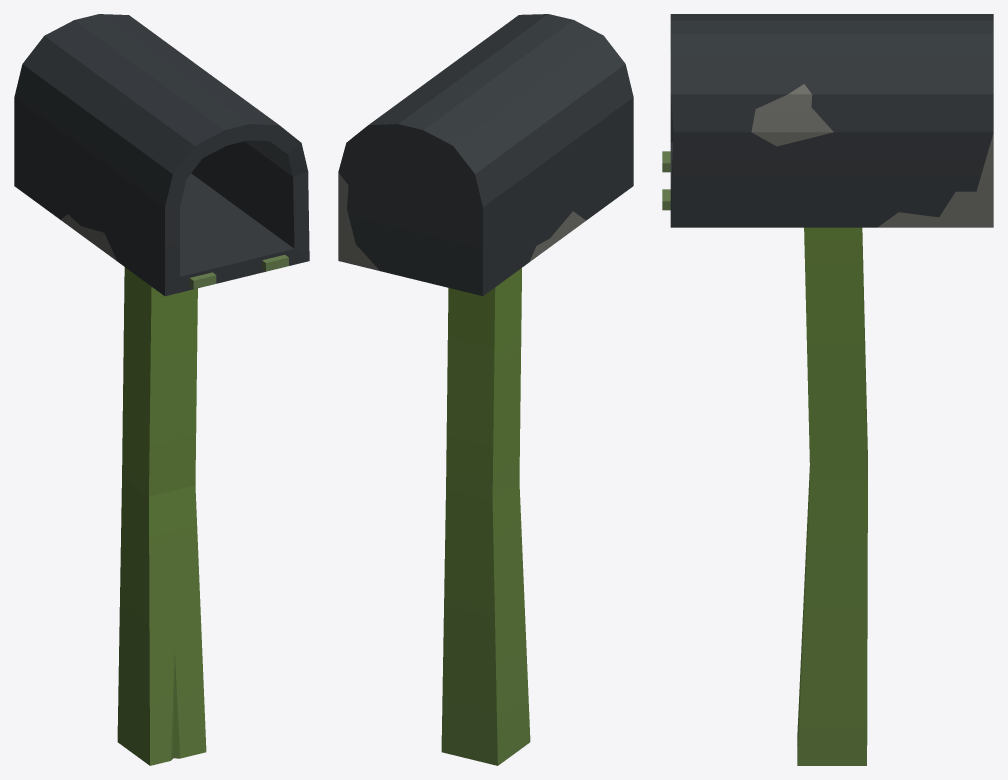
Rendered from Mailbox_03.fbx.
3 renders of one model, left to right at view 1: azimuth 30°, elevation 25°; view 2: azimuth 150°, elevation 25°; view 3: azimuth 270°, elevation 25°, orthographic. The views are drawn at different scales.
Parts seen in each view (by area): view 1: Mailbox_03; view 2: Mailbox_03; view 3: Mailbox_03.
Boxes of the visible parts, <box> form: Mailbox_03: <box>14,14,309,765</box>; Mailbox_03: <box>338,14,633,765</box>; Mailbox_03: <box>662,14,993,765</box>.
Bounding box in the file's own units: 0.2398 × 1.07 × 0.4434.
